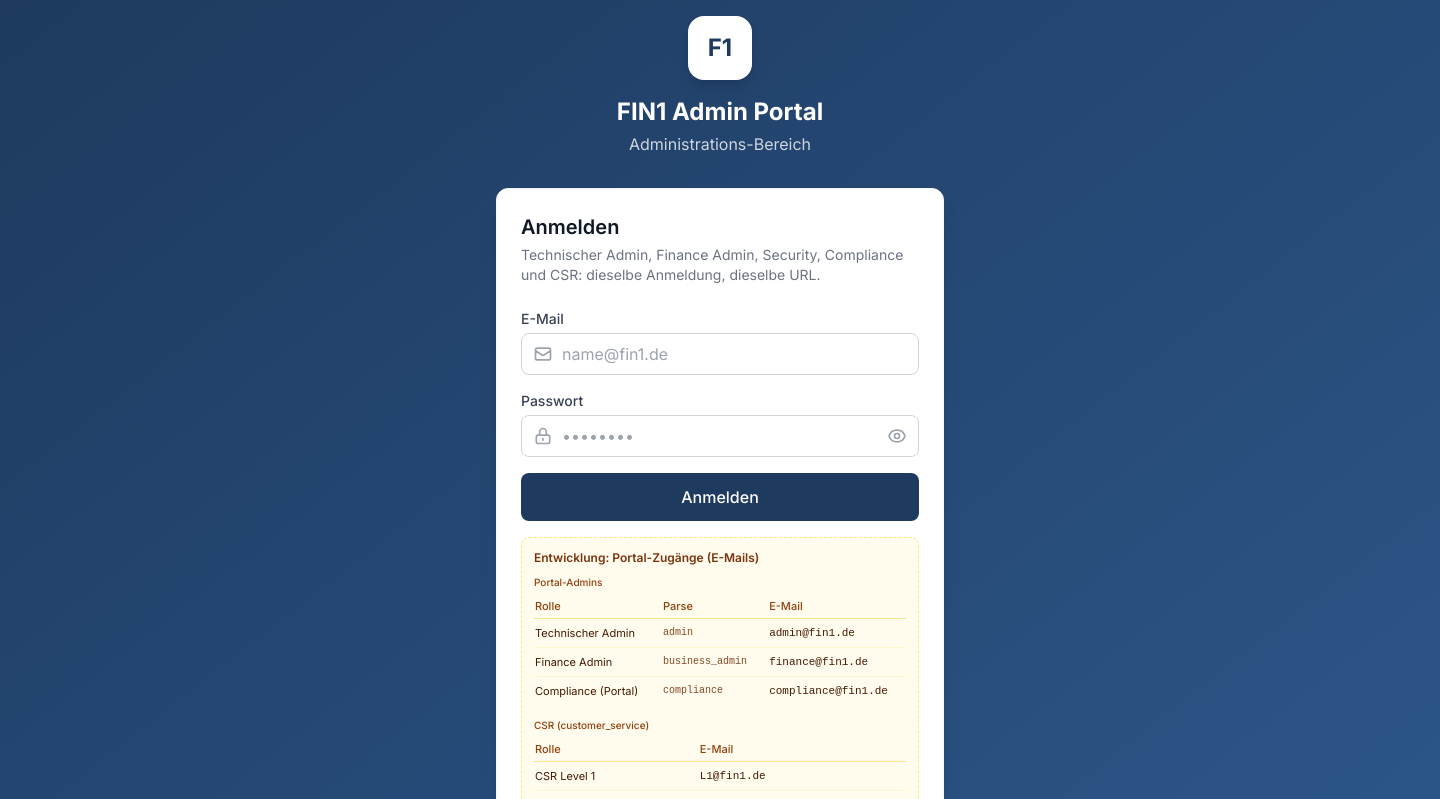
Test: LoginPage › displays generic error for non-Error objects
Type "test@test.com" into the field labelled "E-Mail".
click(720, 354); type("test@test.com")  # box [521,333,919,375]
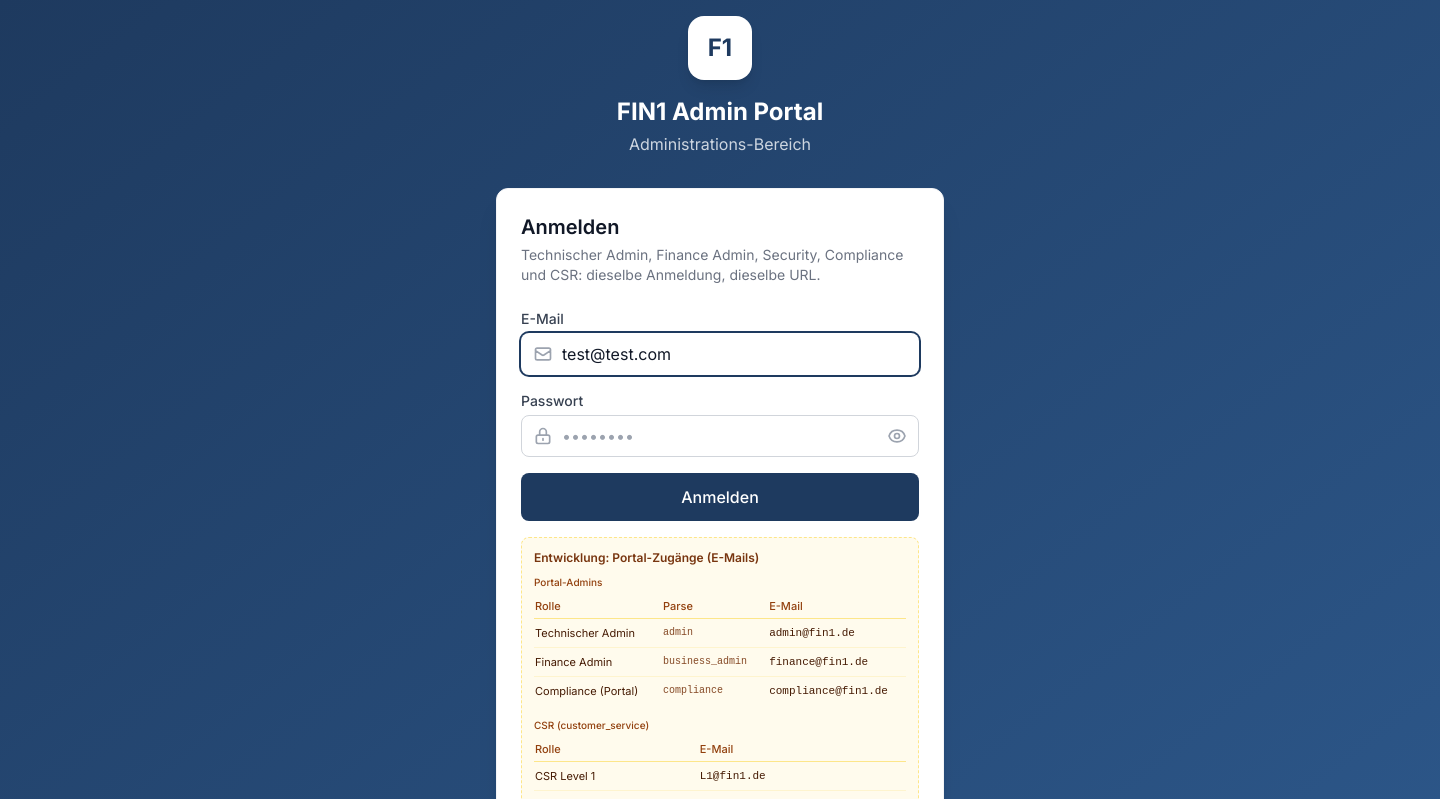
Type "pass" into the password field labelled "Passwort".
click(720, 436); type("pass")  # box [521,415,919,457]
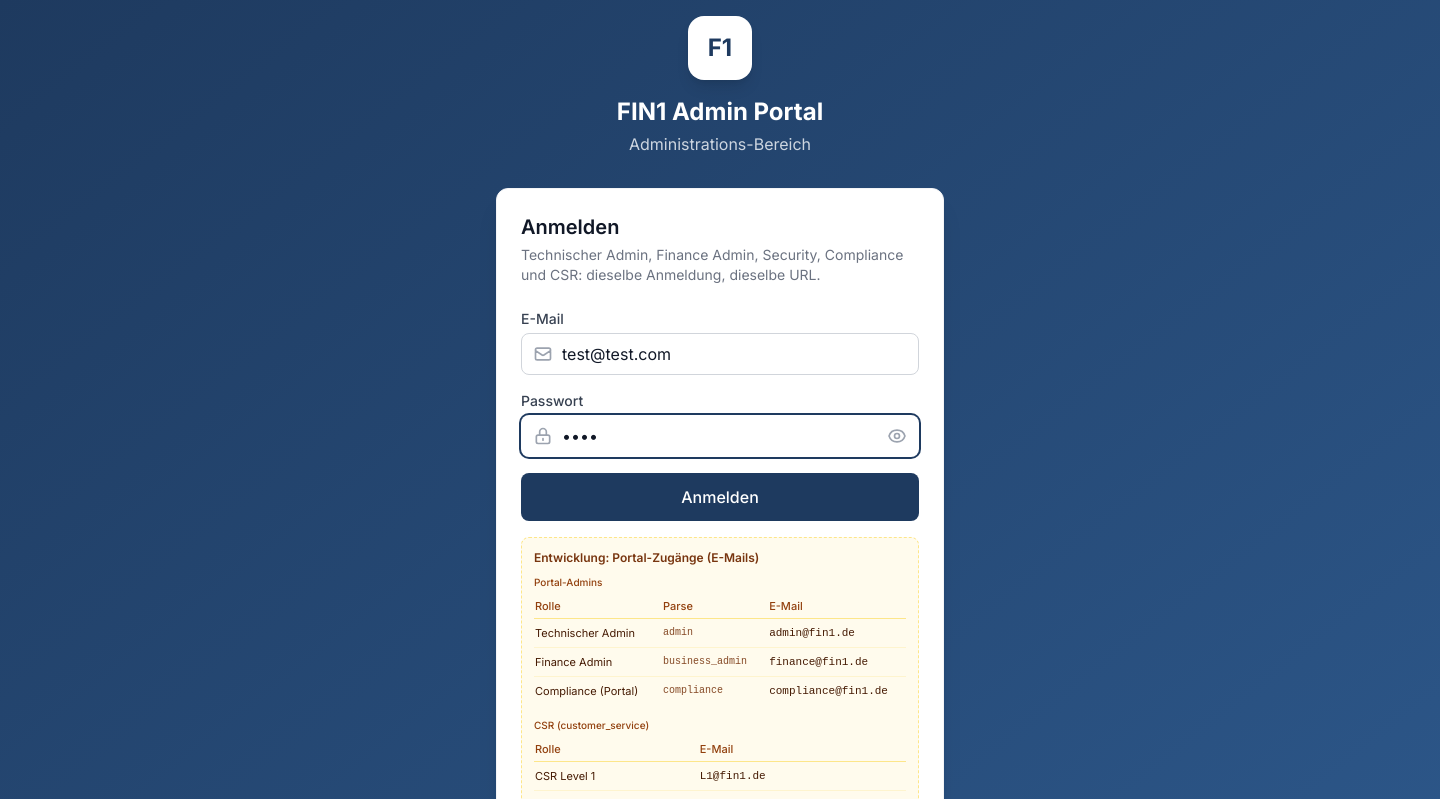
Click the button "Anmelden".
click(720, 497)  # box [521,473,919,521]
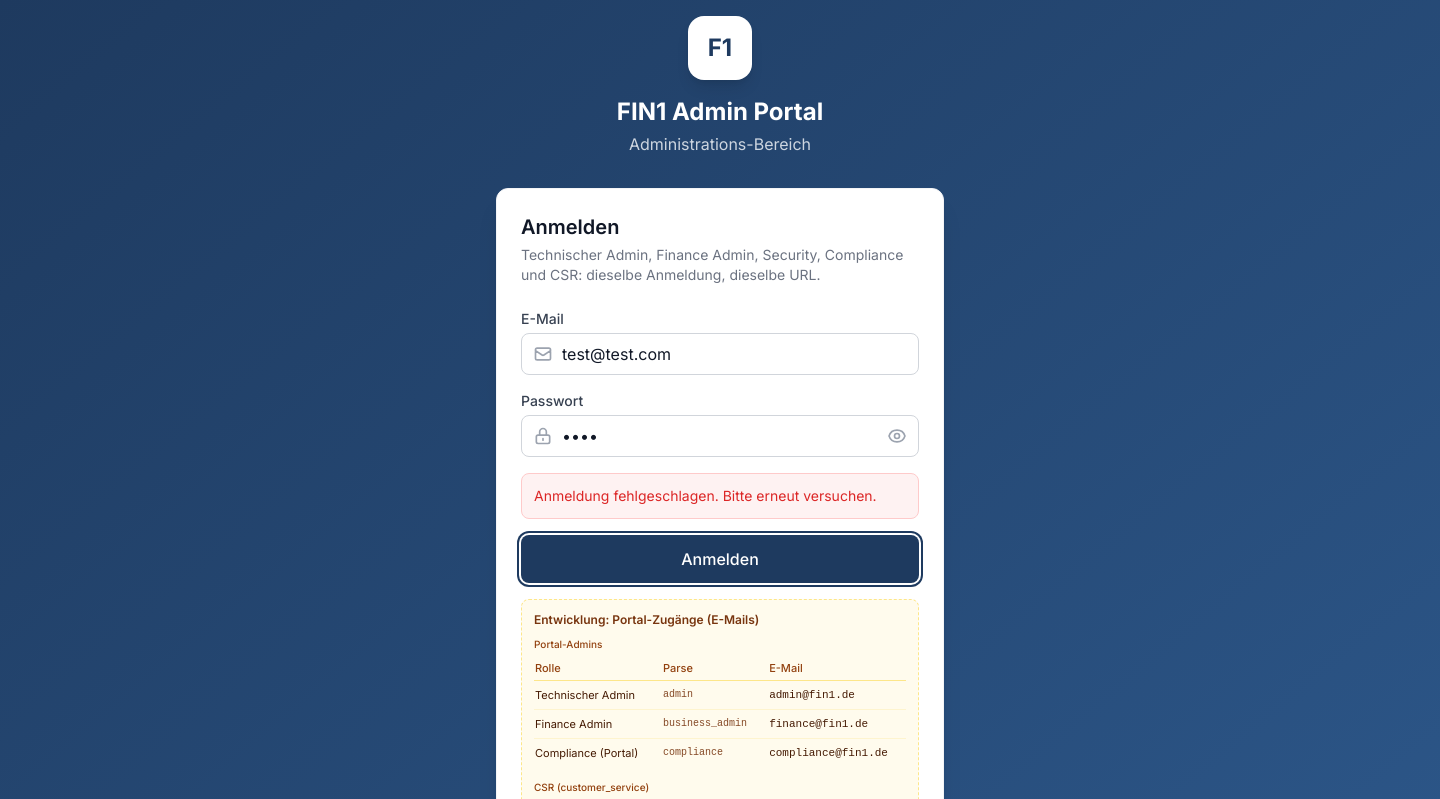
Now the text "Anmeldung fehlgeschlagen. Bitte erneut versuchen." is shown, box [534,486,906,506]
